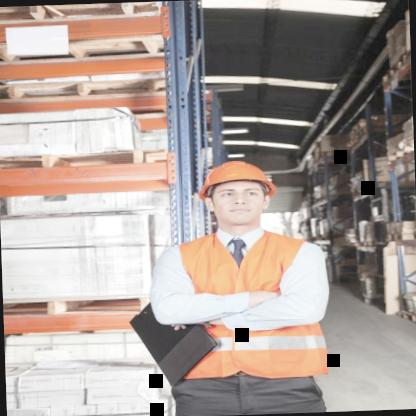helmet: (188, 150, 289, 235)
